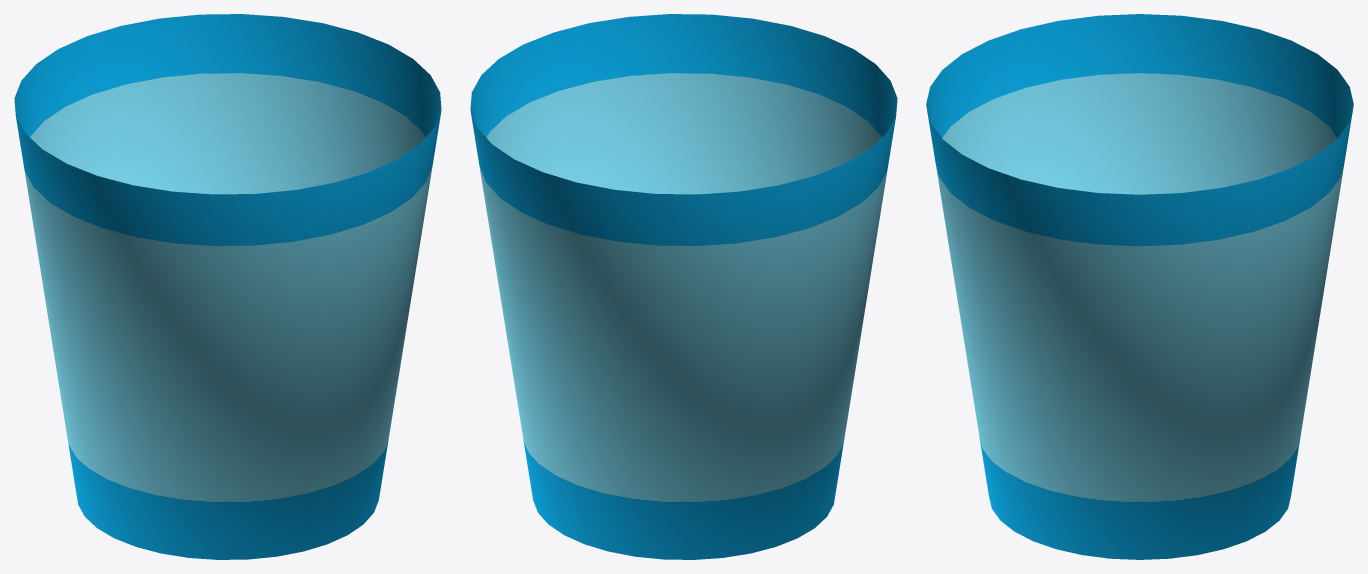
File: basura.obj
3 renders of one model, left to right at view 1: azimuth 30°, elevation 25°; view 2: azimuth 150°, elevation 25°; view 3: azimuth 270°, elevation 25°, orthographic.
Parts seen in each view (by area): view 1: Cylinder; view 2: Cylinder; view 3: Cylinder.
Boxes of the visible parts, x1=… form: Cylinder: x1=14, y1=14, x2=441, y2=559; Cylinder: x1=470, y1=14, x2=897, y2=559; Cylinder: x1=926, y1=14, x2=1353, y2=559.
Size of the model in its own units: 2.83 by 2.86 by 2.83.
1 material, 1 textured.
